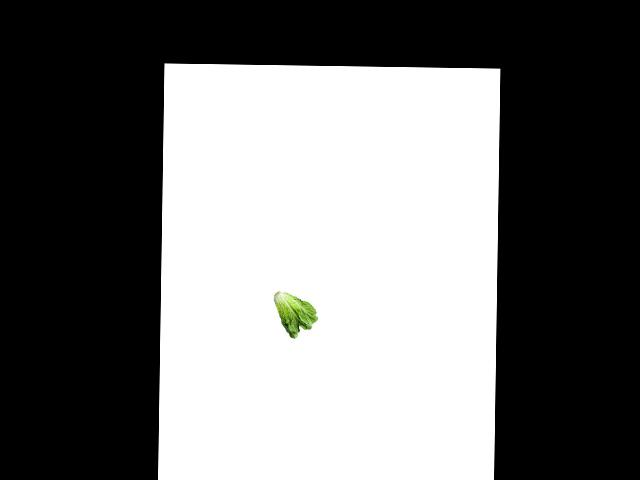lettuce: (272, 289, 324, 338)
